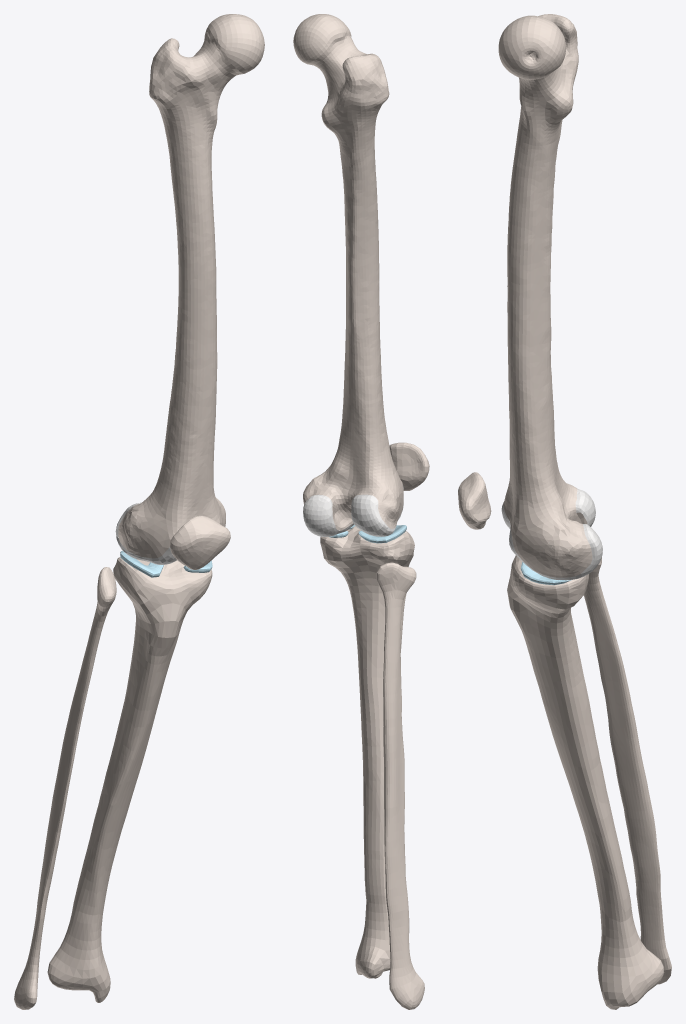
Rendered from VH_M_Knee_R_0.8.glb.
The picture shows the model from 3 angles, left to right: view 1: azimuth 30°, elevation 25°; view 2: azimuth 150°, elevation 25°; view 3: azimuth 270°, elevation 25°; orthographic projection. The views are drawn at different scales.
Parts seen in each view (by area): view 1: VH_M_femur_R, VH_M_tibia_R, VH_M_fibula_R, VH_M_patella_R, VH_M_meniscus_R; view 2: VH_M_femur_R, VH_M_tibia_R, VH_M_fibula_R, VH_M_patella_R, VH_M_medial_condyle_of_right_femur_inf, VH_M_lateral_condyle_of_femur_inf_R, VH_M_meniscus_R, VH_M_articular_cartilage_of_knee_R; view 3: VH_M_femur_R, VH_M_tibia_R, VH_M_fibula_R, VH_M_patella_R, VH_M_articular_cartilage_of_knee_R.
Part boxes in pixels (x1=…): VH_M_femur_R: x1=118, y1=14, x2=264, y2=558; VH_M_tibia_R: x1=47, y1=557, x2=212, y2=1002; VH_M_fibula_R: x1=14, y1=567, x2=116, y2=1009; VH_M_patella_R: x1=170, y1=515, x2=230, y2=569; VH_M_meniscus_R: x1=120, y1=550, x2=212, y2=577; VH_M_femur_R: x1=293, y1=14, x2=403, y2=528; VH_M_tibia_R: x1=320, y1=526, x2=414, y2=978; VH_M_fibula_R: x1=376, y1=562, x2=424, y2=1009; VH_M_patella_R: x1=389, y1=442, x2=429, y2=490; VH_M_medial_condyle_of_right_femur_inf: x1=303, y1=495, x2=336, y2=535; VH_M_lateral_condyle_of_femur_inf_R: x1=351, y1=495, x2=386, y2=534; VH_M_meniscus_R: x1=329, y1=525, x2=406, y2=543; VH_M_articular_cartilage_of_knee_R: x1=315, y1=484, x2=403, y2=536; VH_M_femur_R: x1=498, y1=14, x2=592, y2=577; VH_M_tibia_R: x1=507, y1=545, x2=664, y2=1009; VH_M_fibula_R: x1=583, y1=557, x2=671, y2=984; VH_M_patella_R: x1=458, y1=472, x2=491, y2=529; VH_M_articular_cartilage_of_knee_R: x1=502, y1=489, x2=594, y2=580.
Size of the model in its own units: 0.1734 by 0.8875 by 0.1646.
